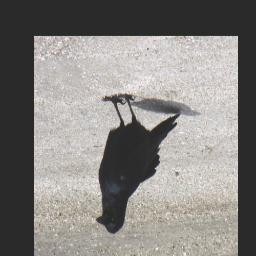Crow: (93, 92, 183, 236)
